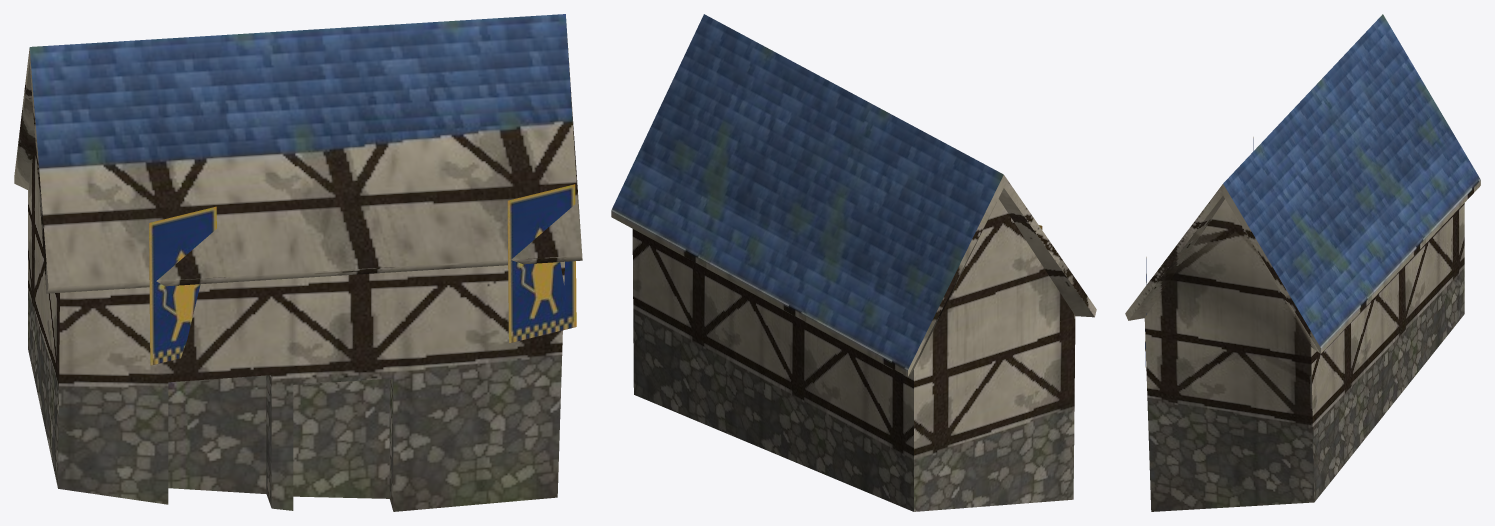
Rendered from house_08_card_lod1.glb.
3 renders of one model, left to right at view 1: azimuth 30°, elevation 25°; view 2: azimuth 150°, elevation 25°; view 3: azimuth 270°, elevation 25°, orthographic. The views are drawn at different scales.
Visible parts, largest first — view 1: house_08_game_card; view 2: house_08_game_card; view 3: house_08_game_card.
Part boxes in pixels (x1=…): house_08_game_card: x1=14, y1=14, x2=582, y2=511; house_08_game_card: x1=611, y1=14, x2=1096, y2=511; house_08_game_card: x1=1125, y1=14, x2=1480, y2=511.
Size of the model in its own units: 10.77 by 8.64 by 7.98.
1 material, 1 textured.
